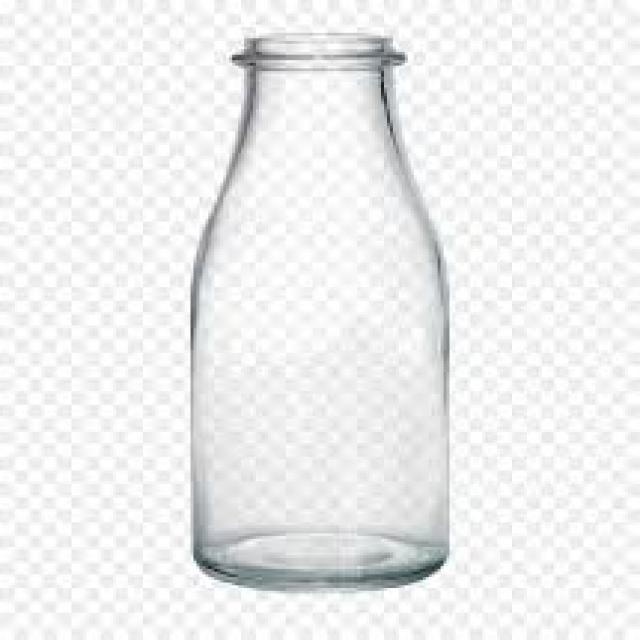Glass-Non-Biodegradable but Recyclable-: (188, 30, 453, 592)
